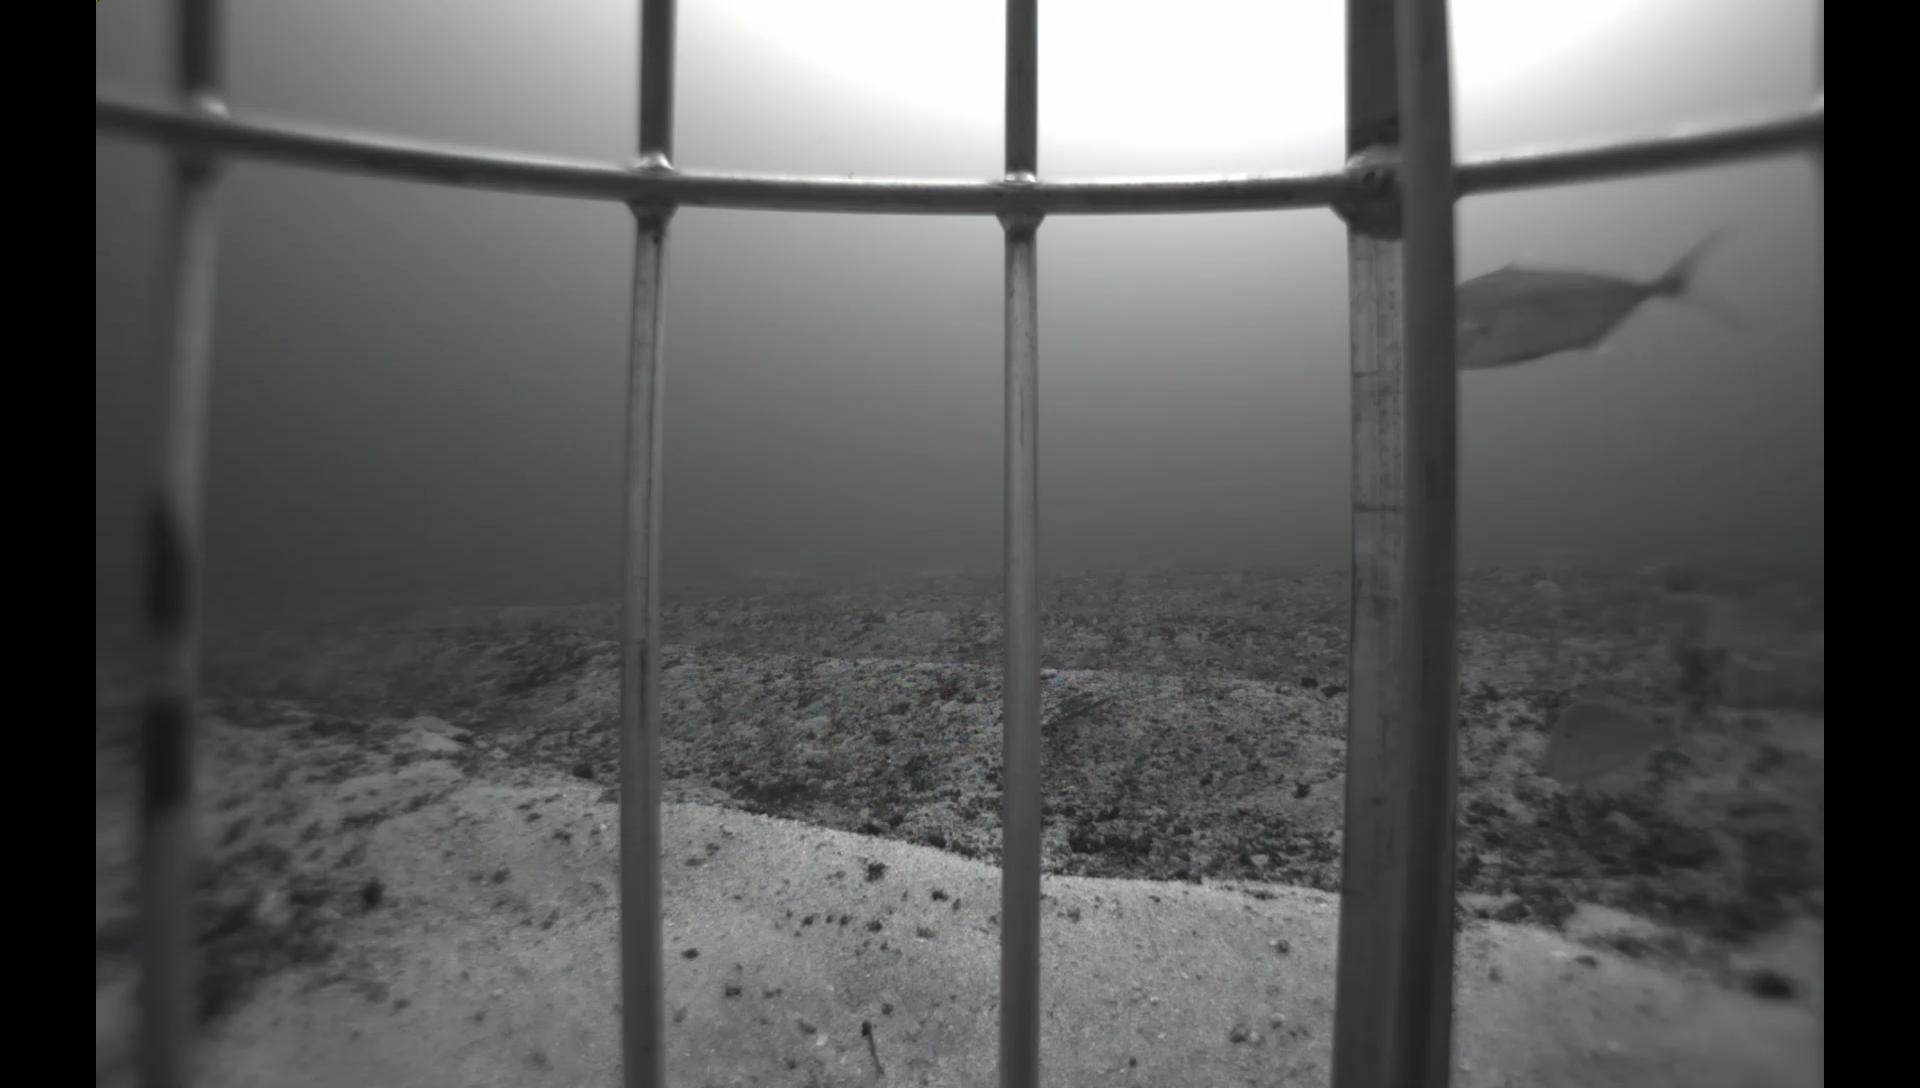CALAMUSPRORIDENS-170210605: (1520, 680, 1718, 793)
RHOMBOPLITESAURORUBENS-170152001: (1691, 587, 1808, 665)
SERIOLAFASCIATA-170113103: (1455, 203, 1764, 386)
